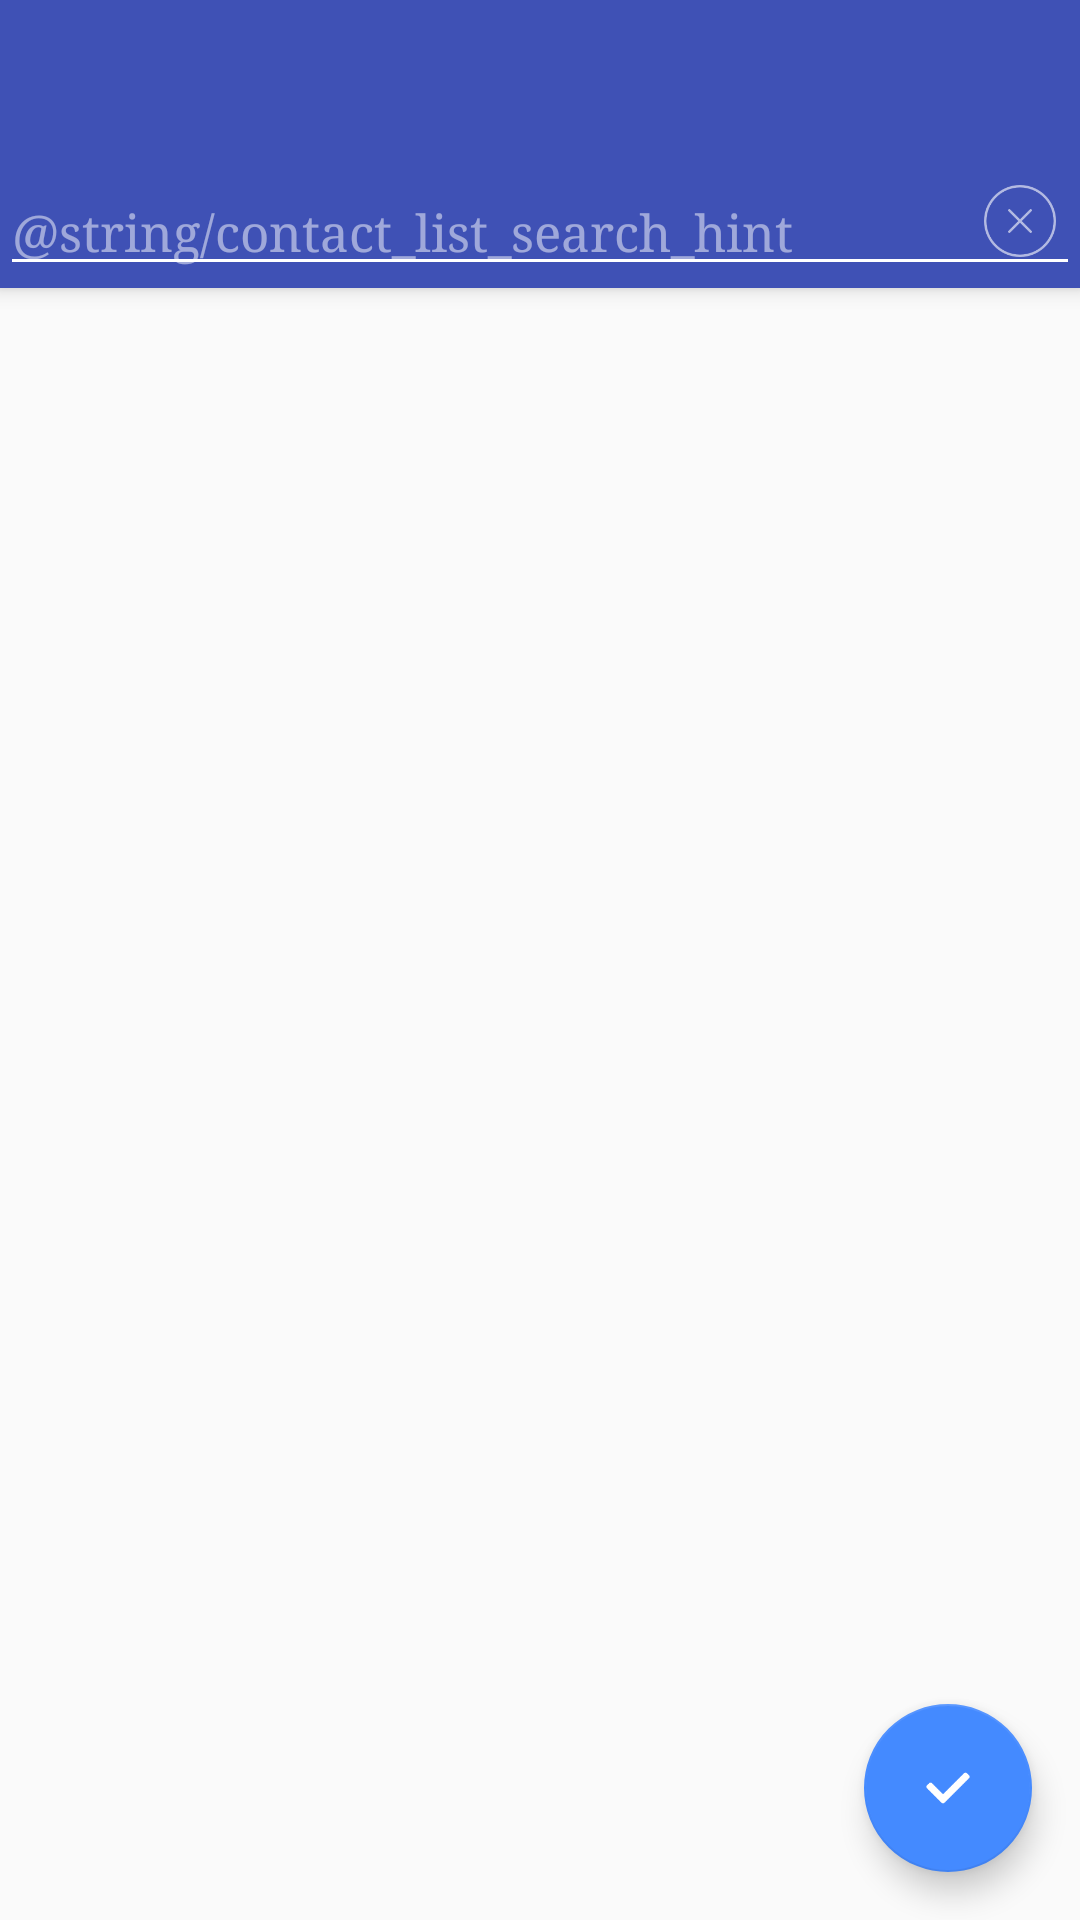

Icon click points for this 1080px x 1920px phone screenshot, format (x=x, y=y):
cross: (x=1020, y=221)
fab mark: (x=948, y=1788)
